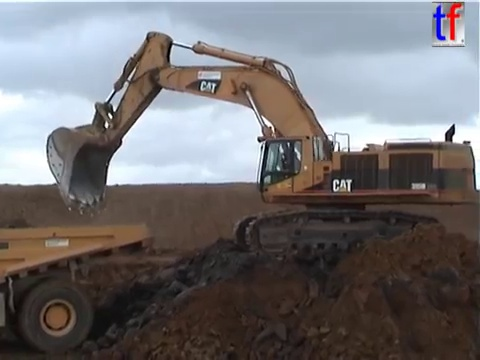excavator: (42, 28, 479, 265)
truck: (1, 221, 155, 354)
